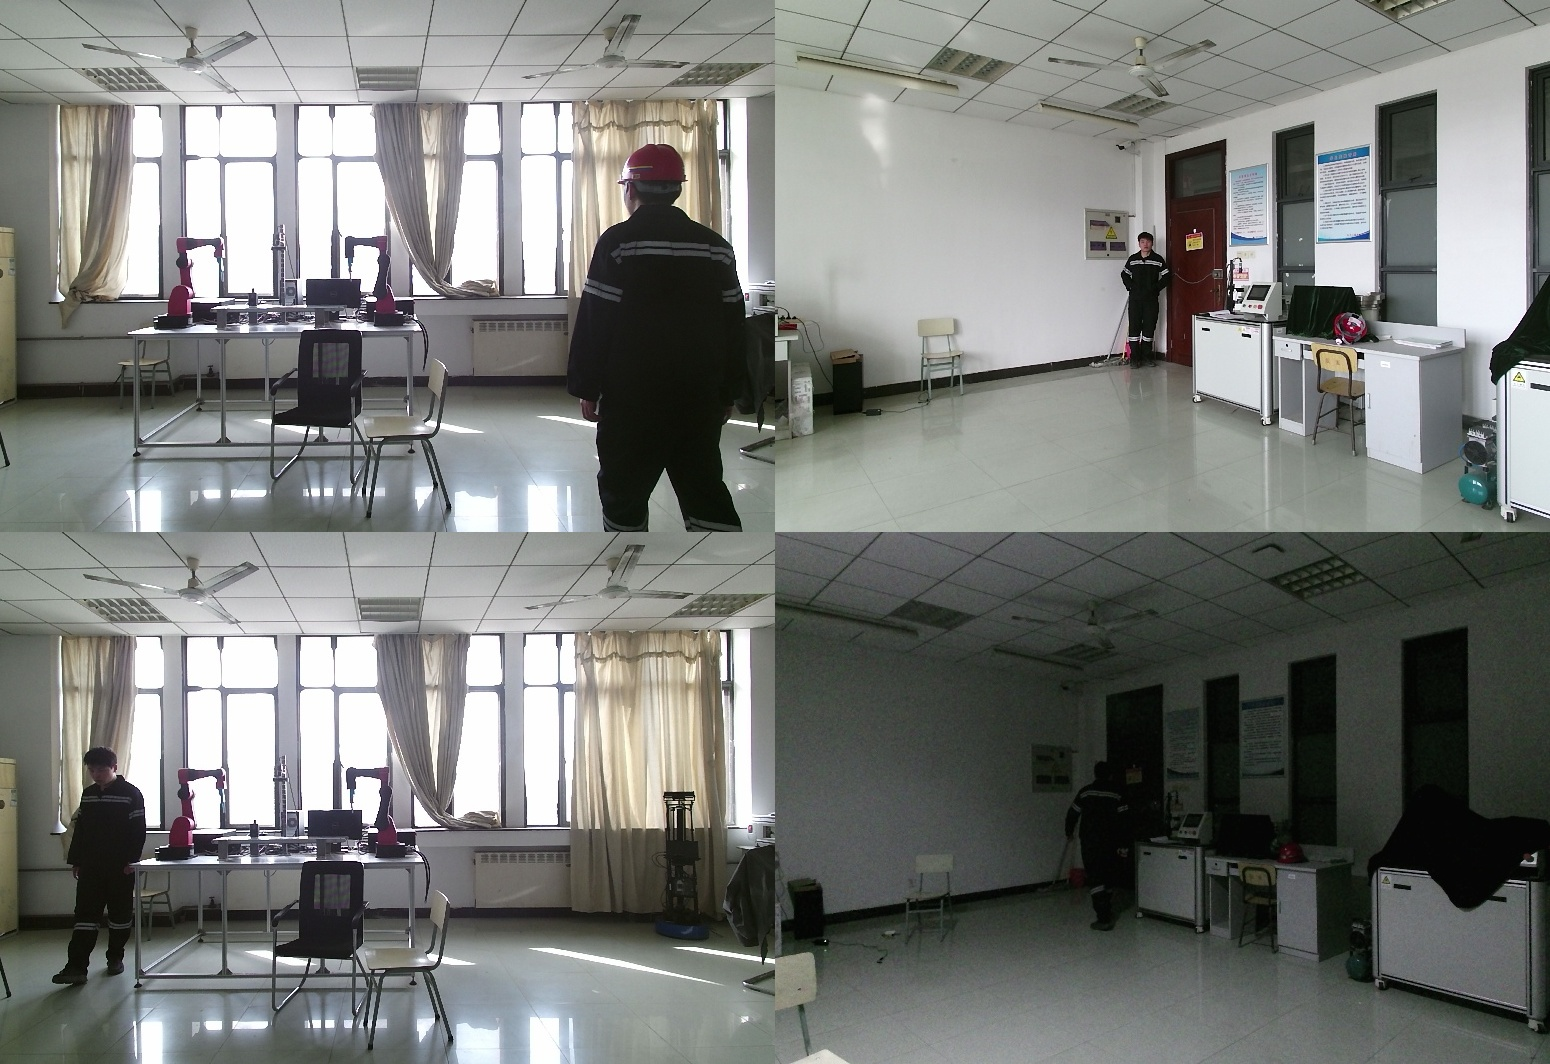person: (575, 145, 758, 532), (50, 749, 146, 983), (1064, 764, 1138, 943), (1119, 232, 1172, 370)
